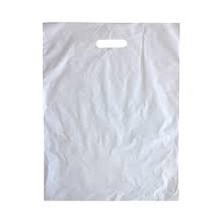plastic_bag: (38, 16, 184, 206)
